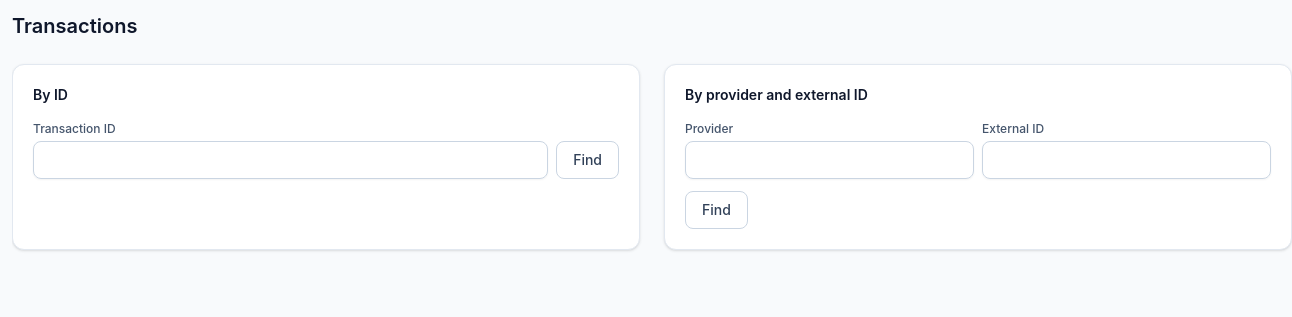
Test case: TransactionsPage › a missing transaction says not found
Type "0192f28f-5dc0-7d58-bdb3-000000000099" into the field labelled "Transaction ID" at (291,160), box 33,141 -> 548,179
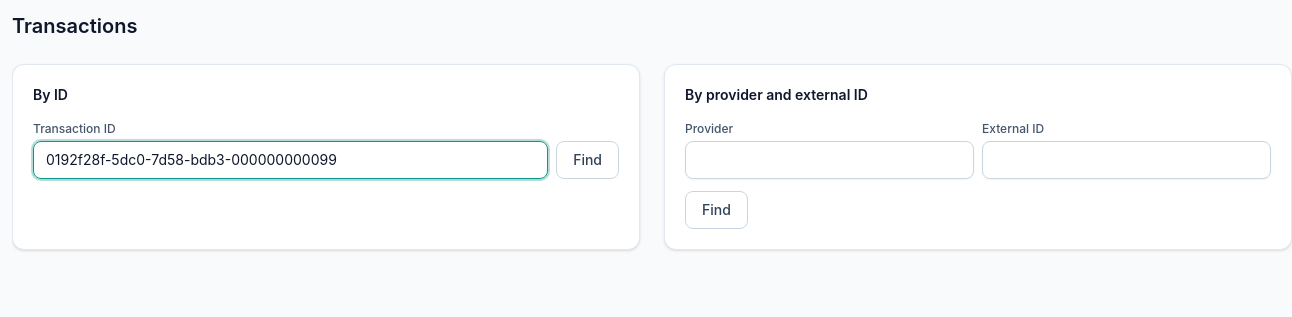
Click the 1st button "Find" at (588,160), box 556,141 -> 619,179
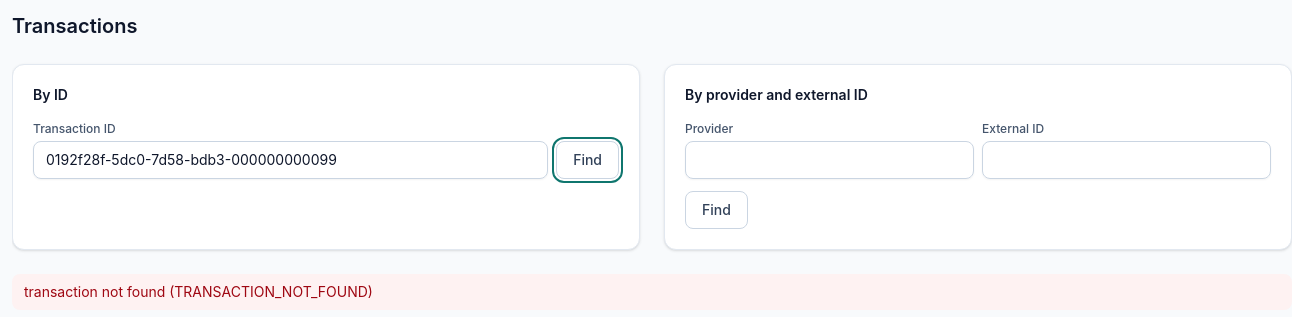
Now the message shows "transaction not found", box 24,283 -> 373,300
